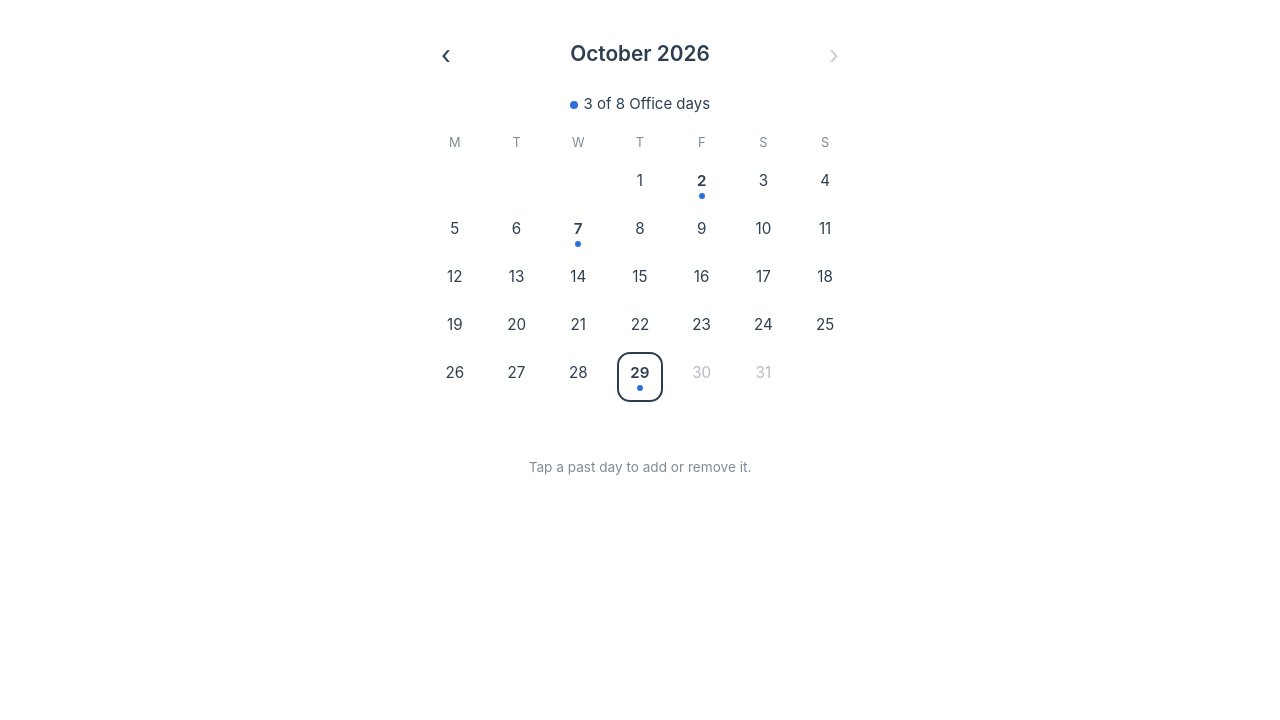
Test case: CalendarView › removes a day that was checked in
Step 1. Click the button "2" → (702, 186), box left=682, top=164, right=722, bottom=208
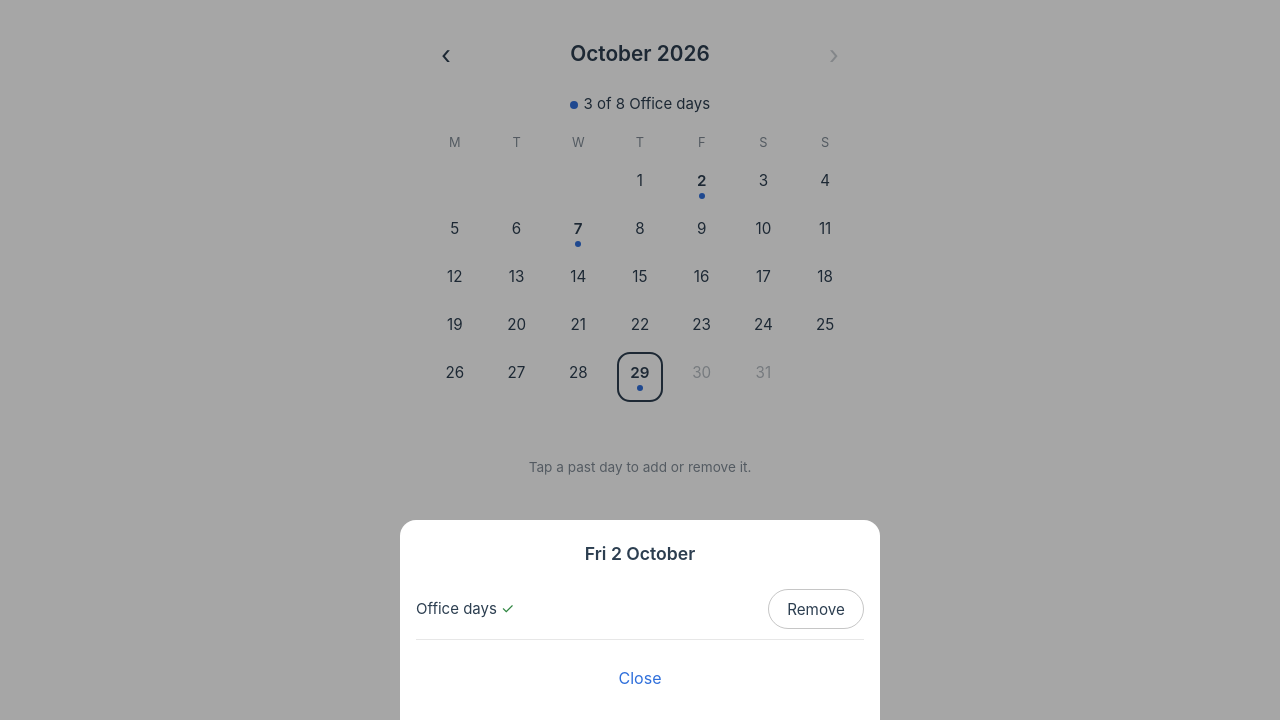
Result: the dialog shows "Office days ✓" at left=400, top=520, right=880, bottom=719
Step 2. Click the button with class "remove" → (816, 609), box left=768, top=589, right=864, bottom=629
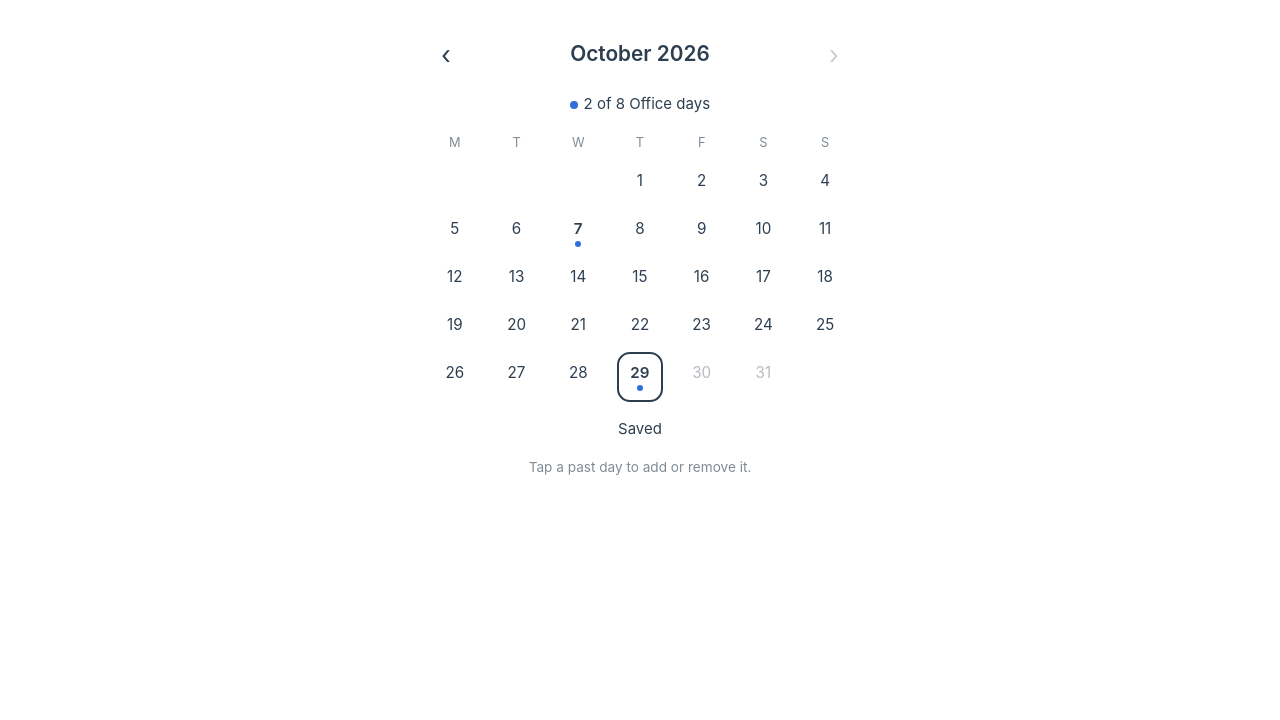
Result: the text "2 of 8 Office days" is shown at left=570, top=94, right=710, bottom=113
